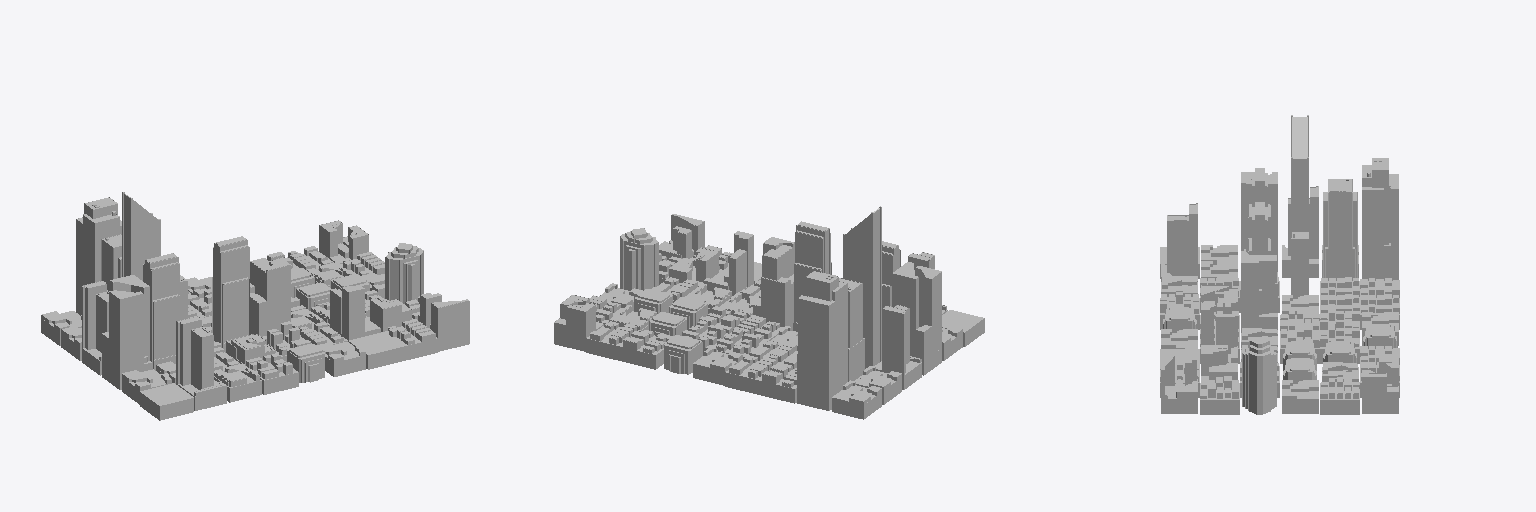
The picture shows the model from 3 angles: view 1: azimuth 30°, elevation 25°; view 2: azimuth 150°, elevation 25°; view 3: azimuth 270°, elevation 25°; orthographic projection.
Visible parts, largest first — view 1: Mograph_City_Rig.1; view 2: Mograph_City_Rig.1; view 3: Mograph_City_Rig.1.
Part boxes in pixels (bbox=[...]): Mograph_City_Rig.1: bbox=[41, 192, 469, 420]; Mograph_City_Rig.1: bbox=[554, 206, 984, 419]; Mograph_City_Rig.1: bbox=[1160, 115, 1399, 414].
Size of the model in its own units: 4505 by 2267 by 3000.